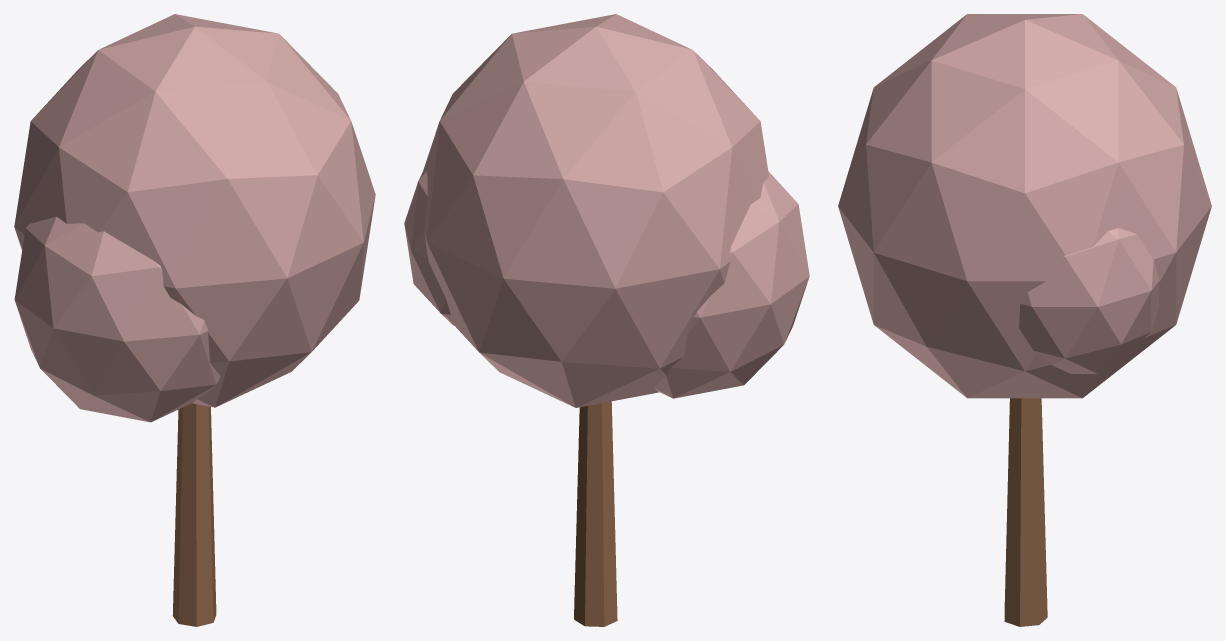
The model's file is cherry_lod.glb.
3 views of the same model, side by side, from view 1: azimuth 30°, elevation 25°; view 2: azimuth 150°, elevation 25°; view 3: azimuth 270°, elevation 25° (orthographic).
Parts seen in each view (by area): view 1: cherry_Tree_Crown, cherry_Tree_Crown.001, cherry_Tree_Trunk; view 2: cherry_Tree_Crown, cherry_Tree_Crown.001, cherry_Tree_Trunk, cherry_Tree_Crown.002; view 3: cherry_Tree_Crown, cherry_Tree_Crown.002, cherry_Tree_Trunk.
Boxes of the visible parts, <box> form: cherry_Tree_Crown: <box>14,14,375,407</box>; cherry_Tree_Crown.001: <box>14,216,220,422</box>; cherry_Tree_Trunk: <box>172,403,216,626</box>; cherry_Tree_Crown: <box>422,14,768,407</box>; cherry_Tree_Crown.001: <box>654,171,809,398</box>; cherry_Tree_Trunk: <box>574,401,617,626</box>; cherry_Tree_Crown.002: <box>404,172,454,325</box>; cherry_Tree_Crown: <box>838,14,1211,398</box>; cherry_Tree_Crown.002: <box>1019,228,1159,373</box>; cherry_Tree_Trunk: <box>1004,398,1047,626</box>.
Size of the model in its own units: 2.91 by 4.94 by 2.8.
